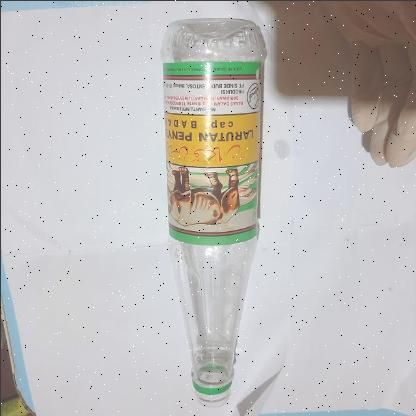Plastic Bottle: (160, 15, 266, 402)
